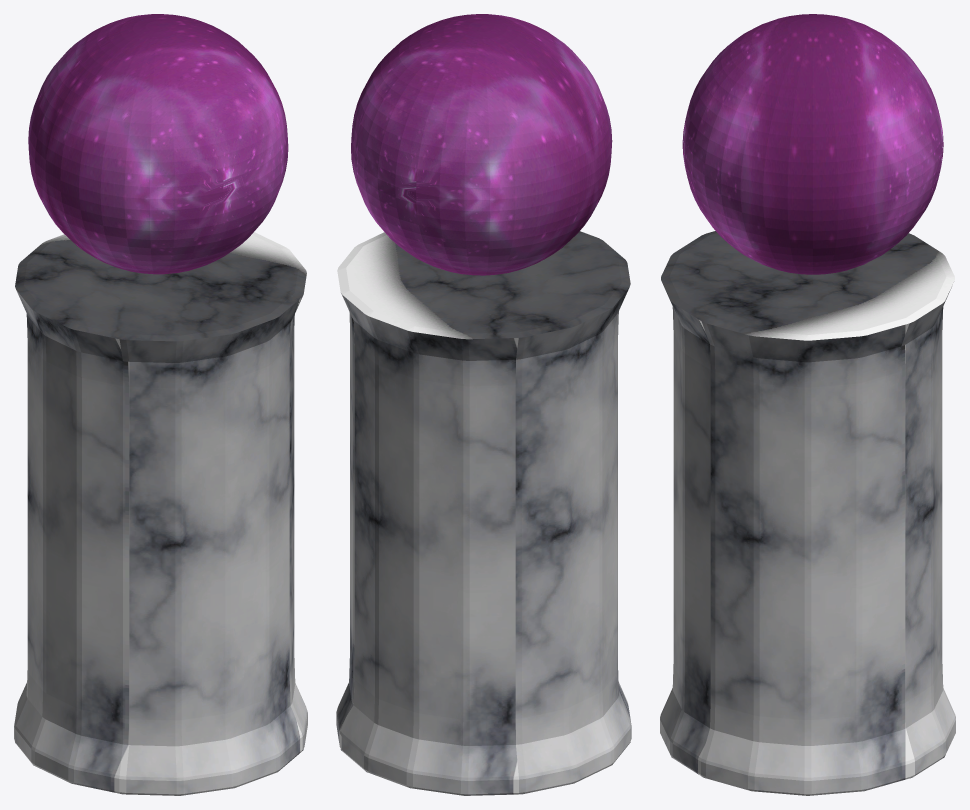
The model's file is news.dae.
The picture shows the model from 3 angles, left to right: view 1: azimuth 30°, elevation 25°; view 2: azimuth 150°, elevation 25°; view 3: azimuth 270°, elevation 25°; orthographic projection.
Visible parts, largest first — view 1: pillar, globe; view 2: pillar, globe; view 3: pillar, globe.
Part boxes in pixels (x1=…): pillar: x1=14, y1=232, x2=307, y2=795; globe: x1=28, y1=14, x2=288, y2=274; pillar: x1=336, y1=231, x2=631, y2=795; globe: x1=351, y1=14, x2=612, y2=275; pillar: x1=660, y1=231, x2=955, y2=795; globe: x1=682, y1=14, x2=943, y2=274.
Size of the model in its own units: 0.4045 by 0.4045 by 1.07.
Materials: 2 (2 with a texture image).
